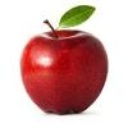apple: (20, 31, 109, 114)
